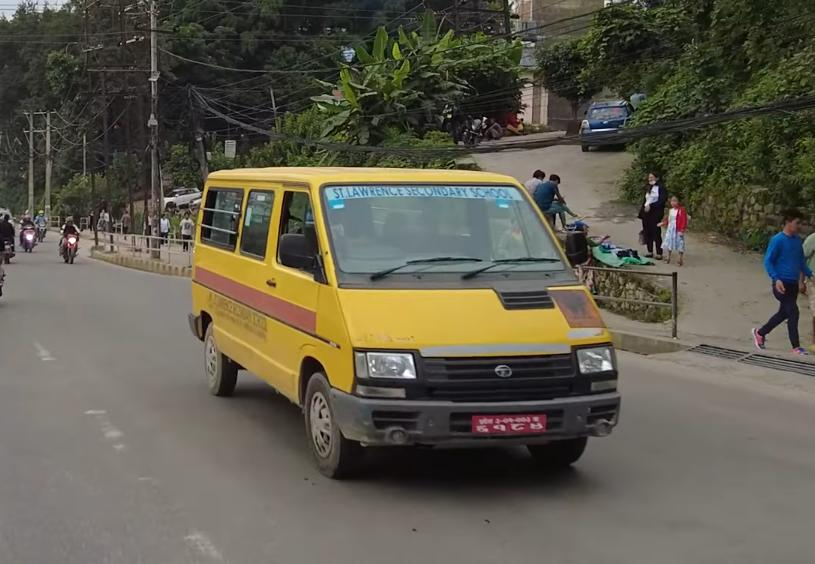school_bus: (188, 158, 626, 489)
